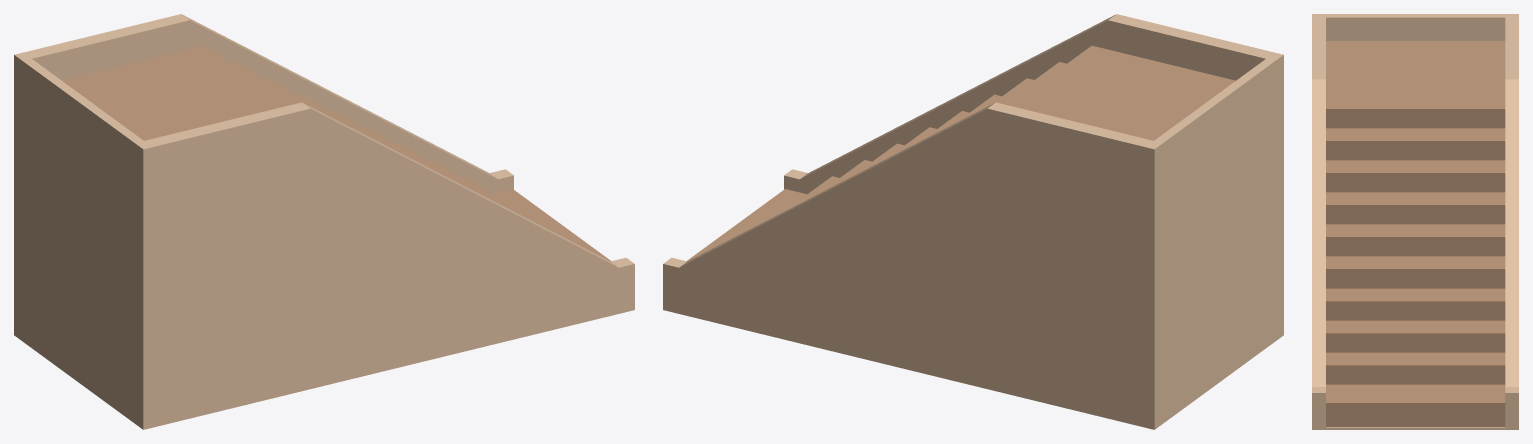
File: village_pack_stairs.glb
3 views of the same model, side by side, from view 1: azimuth 30°, elevation 25°; view 2: azimuth 150°, elevation 25°; view 3: azimuth 270°, elevation 25° (orthographic). The views are drawn at different scales.
Parts seen in each view (by area): view 1: stairs_brick 3_0; view 2: stairs_brick 3_0; view 3: stairs_brick 3_0.
Boxes of the visible parts, x1=… form: stairs_brick 3_0: x1=14, y1=14, x2=634, y2=429; stairs_brick 3_0: x1=663, y1=14, x2=1283, y2=429; stairs_brick 3_0: x1=1312, y1=14, x2=1518, y2=429.
Bounding box in the file's own units: 5.52 × 3.01 × 2.52.
